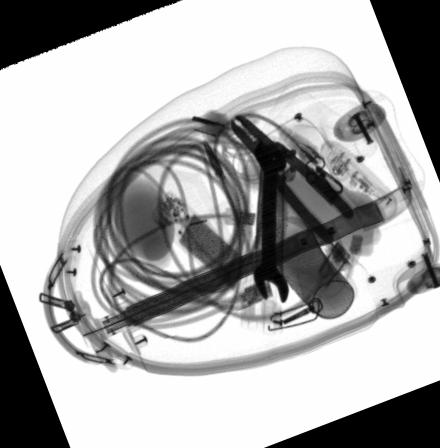Pliers: (230, 114, 356, 245)
Powerbank: (151, 189, 249, 291)
Wrench: (253, 139, 289, 303)
